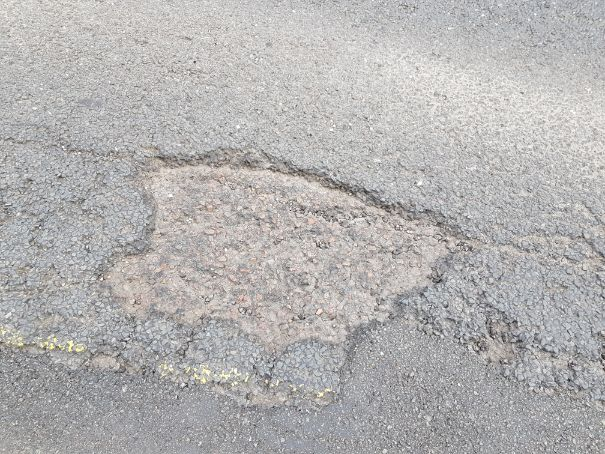pothole: (91, 143, 468, 354)
